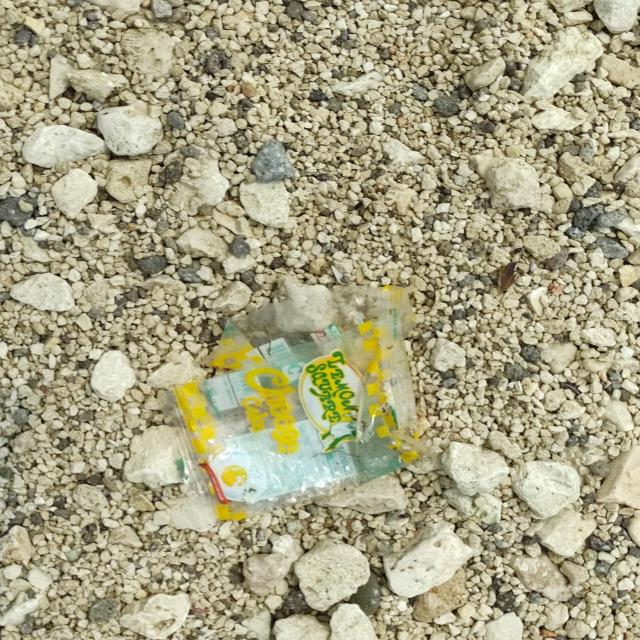plastic_waste: (170, 284, 420, 522)
